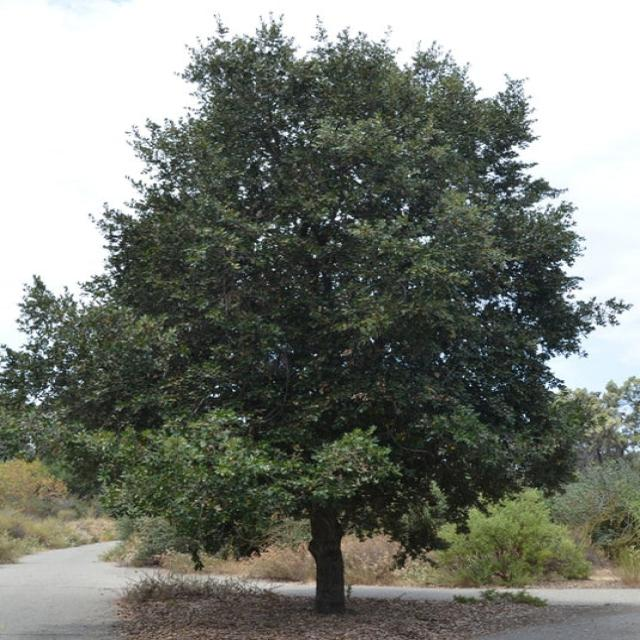Quercus chrysolepis: (38, 11, 580, 606)
